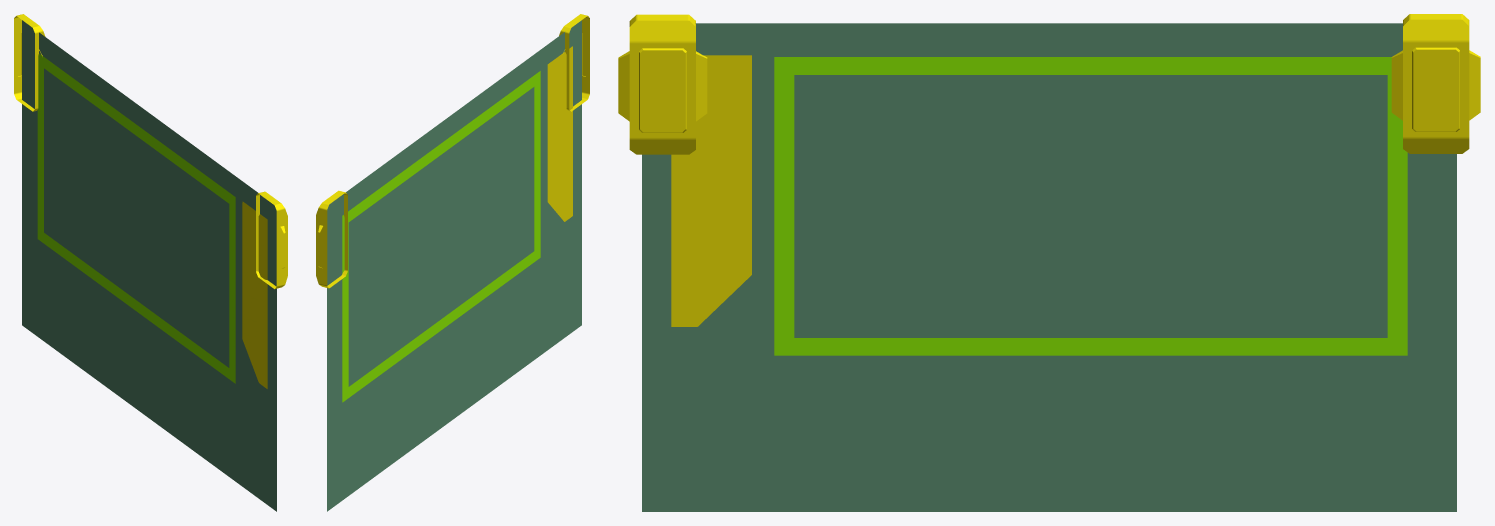
Rendered from Building_Wall_02d_Cut_Out_snaps016.FBX.
The picture shows the model from 3 angles, left to right: view 1: azimuth 30°, elevation 25°; view 2: azimuth 150°, elevation 25°; view 3: azimuth 270°, elevation 25°; orthographic projection. The views are drawn at different scales.
Visible parts, largest first — view 1: Building_Wall_02d_Cut_Out_snaps016_LOD0; view 2: Building_Wall_02d_Cut_Out_snaps016_LOD0; view 3: Building_Wall_02d_Cut_Out_snaps016_LOD0.
Boxes of the visible parts, left/top/right/bottom form: Building_Wall_02d_Cut_Out_snaps016_LOD0: left=14, top=14, right=287, bottom=511; Building_Wall_02d_Cut_Out_snaps016_LOD0: left=316, top=14, right=589, bottom=511; Building_Wall_02d_Cut_Out_snaps016_LOD0: left=618, top=14, right=1480, bottom=511.
Size of what is drawn, in the model's own units: 0.0819 by 2.01 by 3.17.
